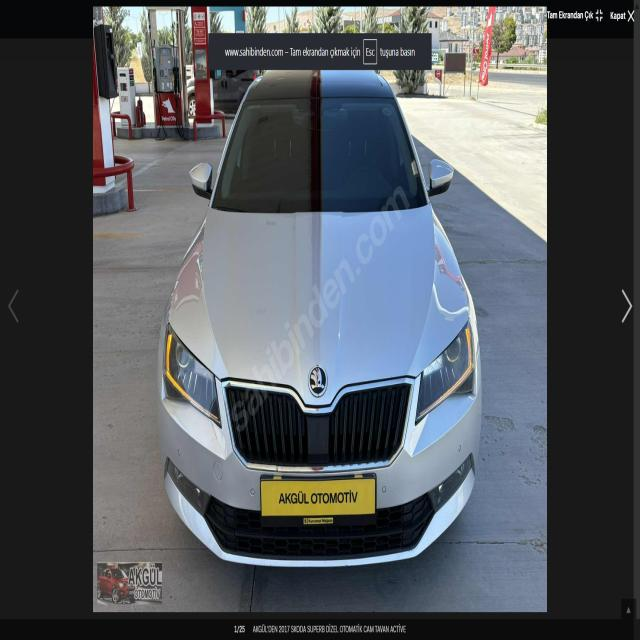skoda: (307, 363, 329, 399)
